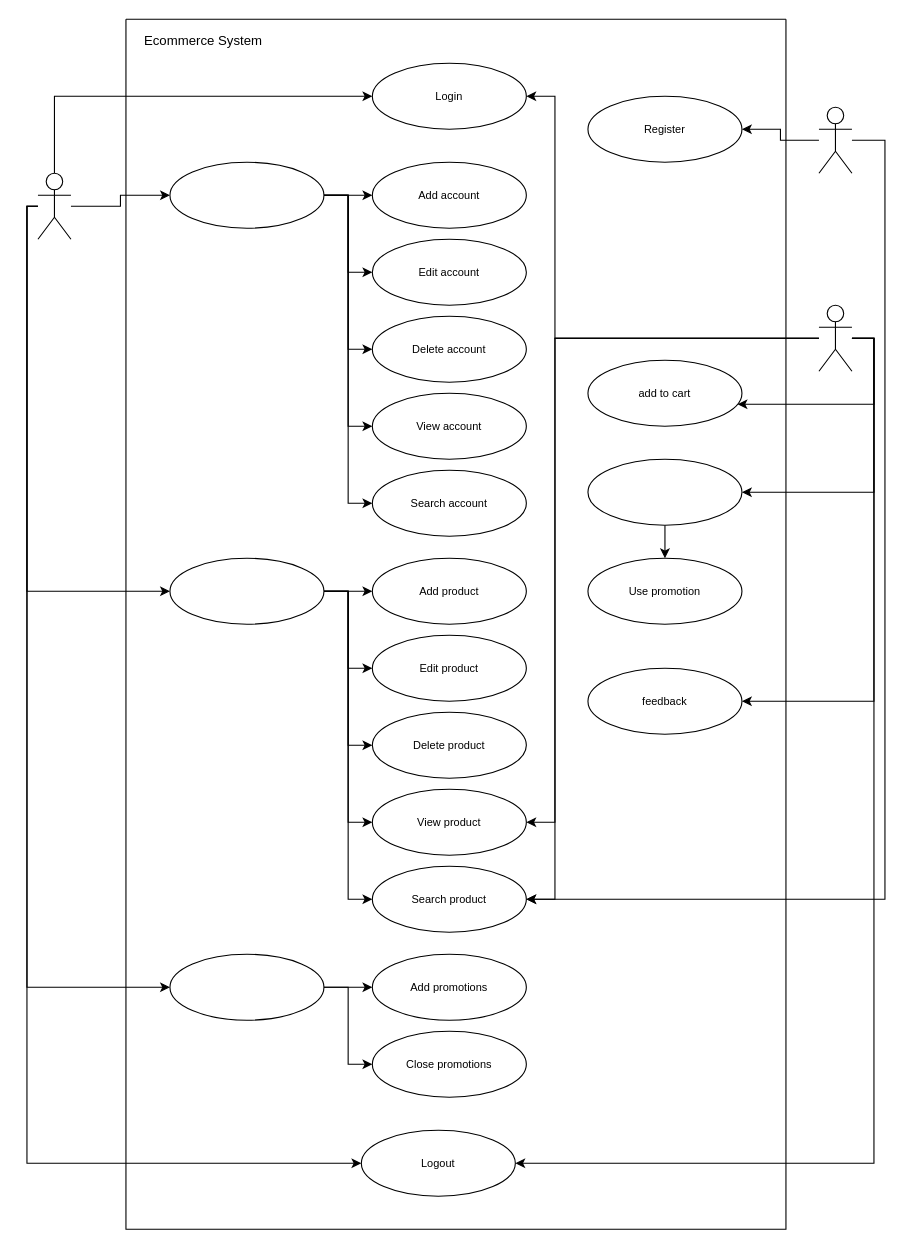
This 913x1249 diagram has some shape labels left out. Each missing label, with the centre of its shape:
"Admin" goes at point 54,205.
"Customer" goes at point 835,337.
"manage customer account" goes at point 246,194.
"manage product" goes at point 246,590.
"manage promotions" goes at point 246,986.
"New Customer" goes at point 835,139.
"payment" goes at point 664,491.
